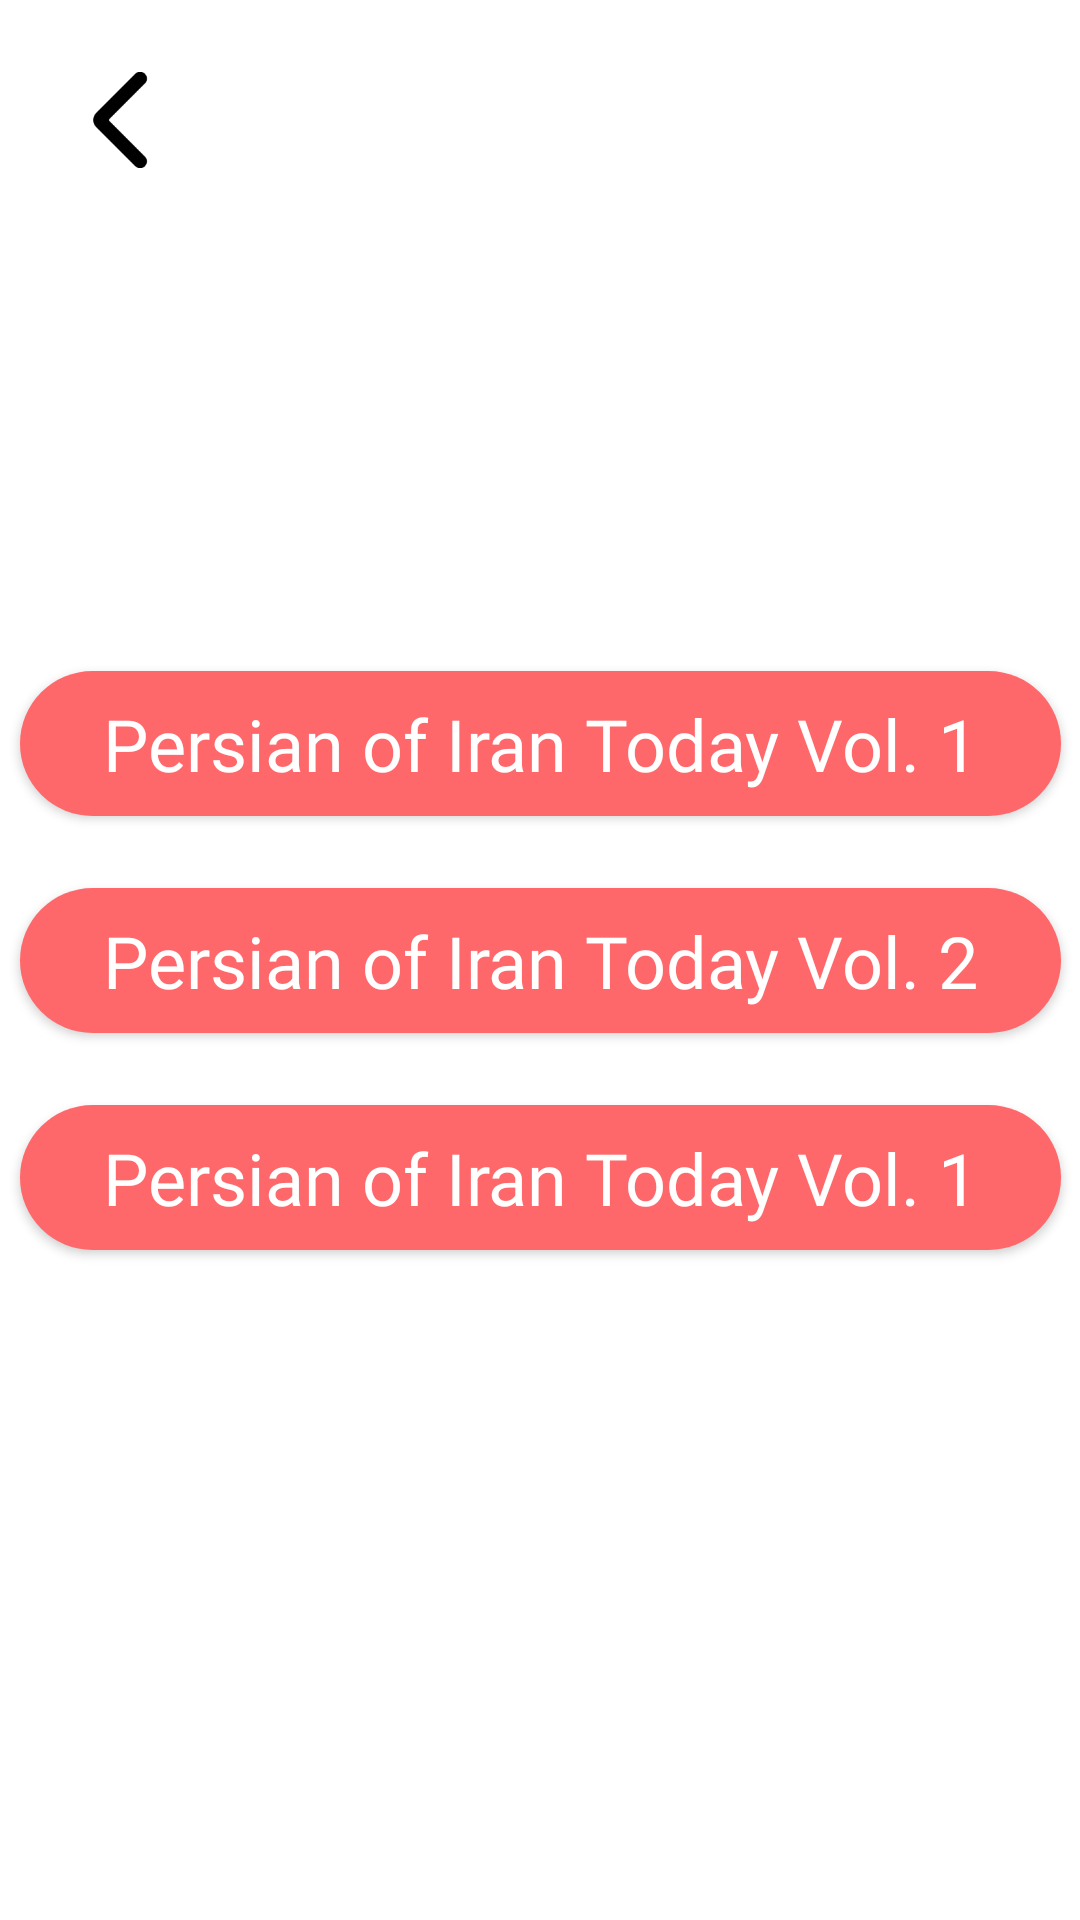

Named icons in this screenshot (1080 x 1920) and their bounding boxes, detection(x1, y1, x2, y2):
back: detection(93, 72, 148, 168)
